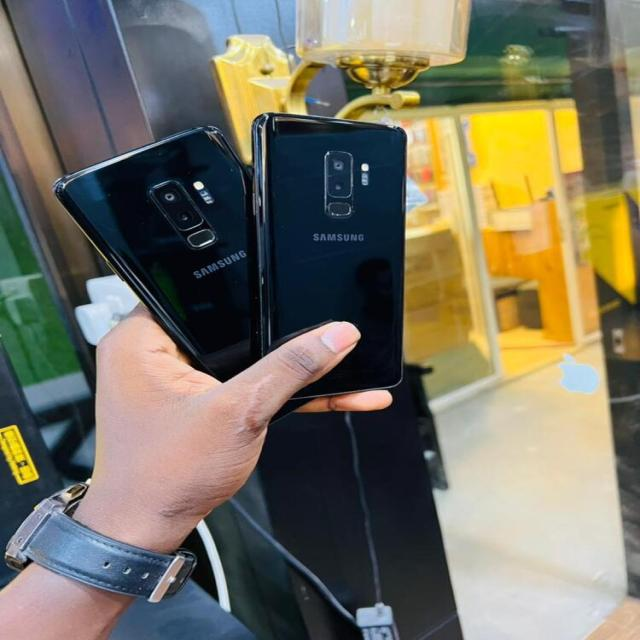mobile phone: (51, 124, 260, 384), (250, 111, 408, 412)
